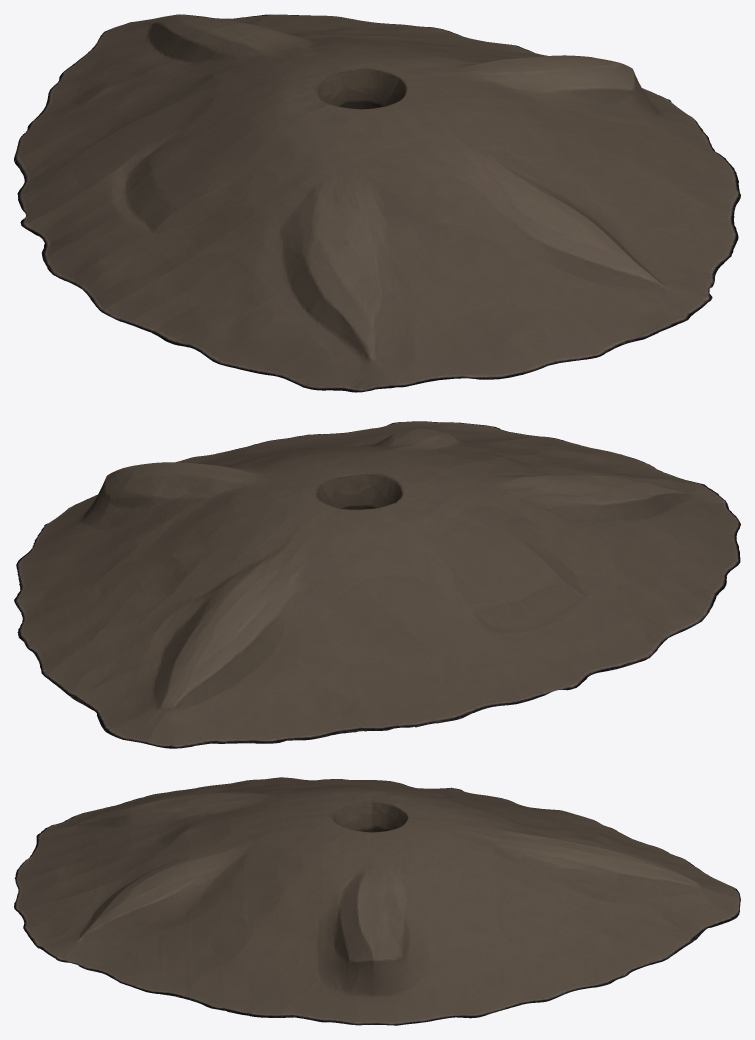
3 renders of one model, top to bottom at view 1: azimuth 30°, elevation 25°; view 2: azimuth 150°, elevation 25°; view 3: azimuth 270°, elevation 25°, orthographic. The views are drawn at different scales.
Parts seen in each view (by area): view 1: world; view 2: world; view 3: world.
Part boxes in pixels (x1=…): world: x1=14, y1=14, x2=740, y2=392; world: x1=14, y1=421, x2=740, y2=748; world: x1=14, y1=777, x2=740, y2=1025.
Size of the model in its own units: 0.8058 by 0.1342 by 0.9916.
Materials: 1 (1 with a texture image).
